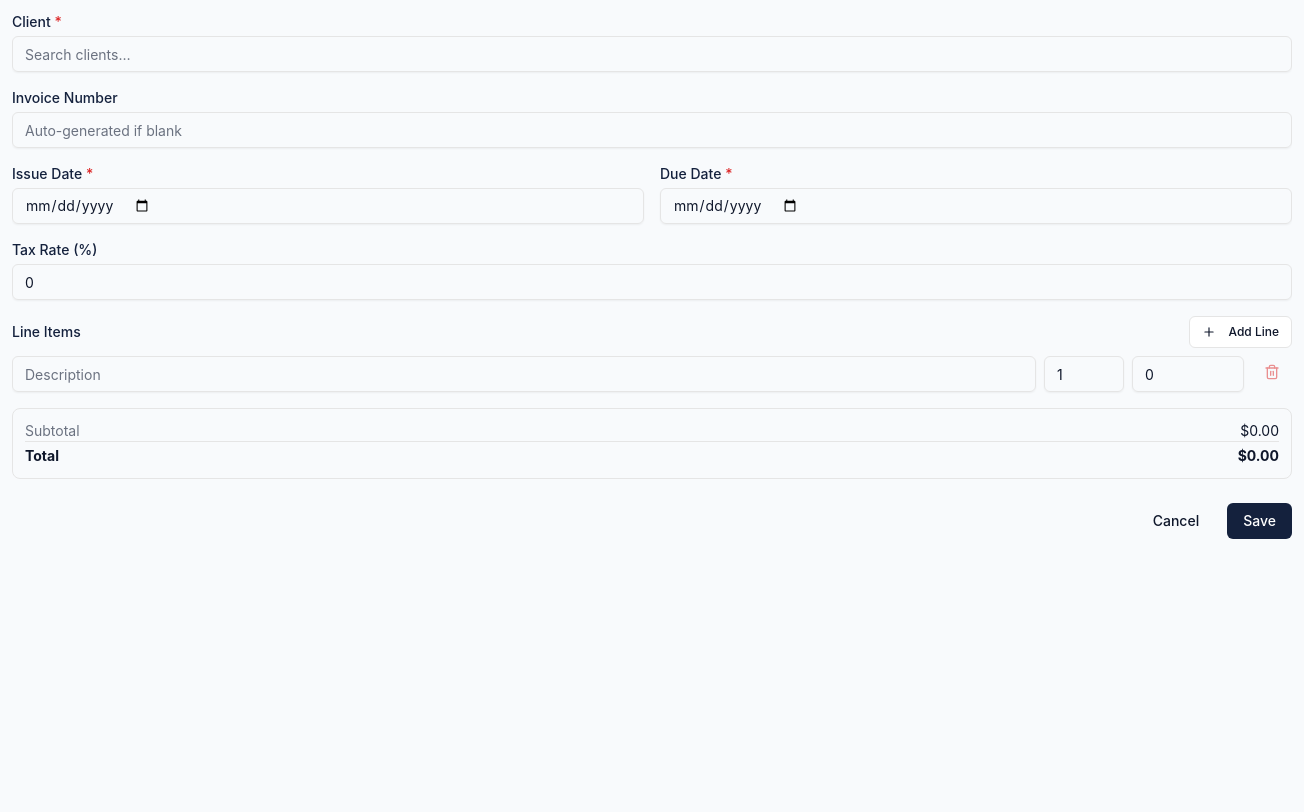
InvoiceForm › removes a line item when remove button is clicked (only if >1 line)
Click the button with test id "btn-add-line": coordinates (1241, 332) left=1190, top=316, right=1292, bottom=348
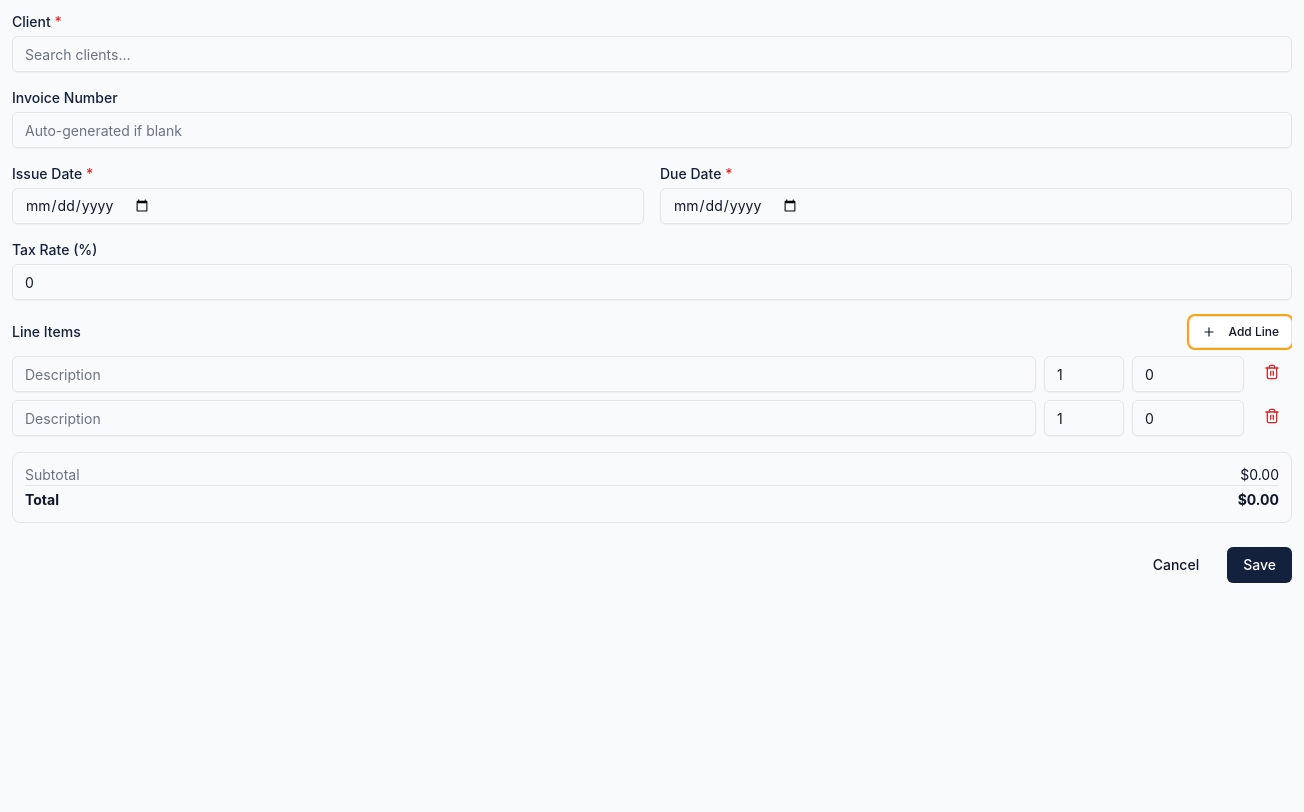
Check: the element with test id "line-item-1" is shown, box left=12, top=400, right=1292, bottom=436
Click the button with test id "btn-remove-line-1": coordinates (1272, 416) left=1252, top=400, right=1292, bottom=432
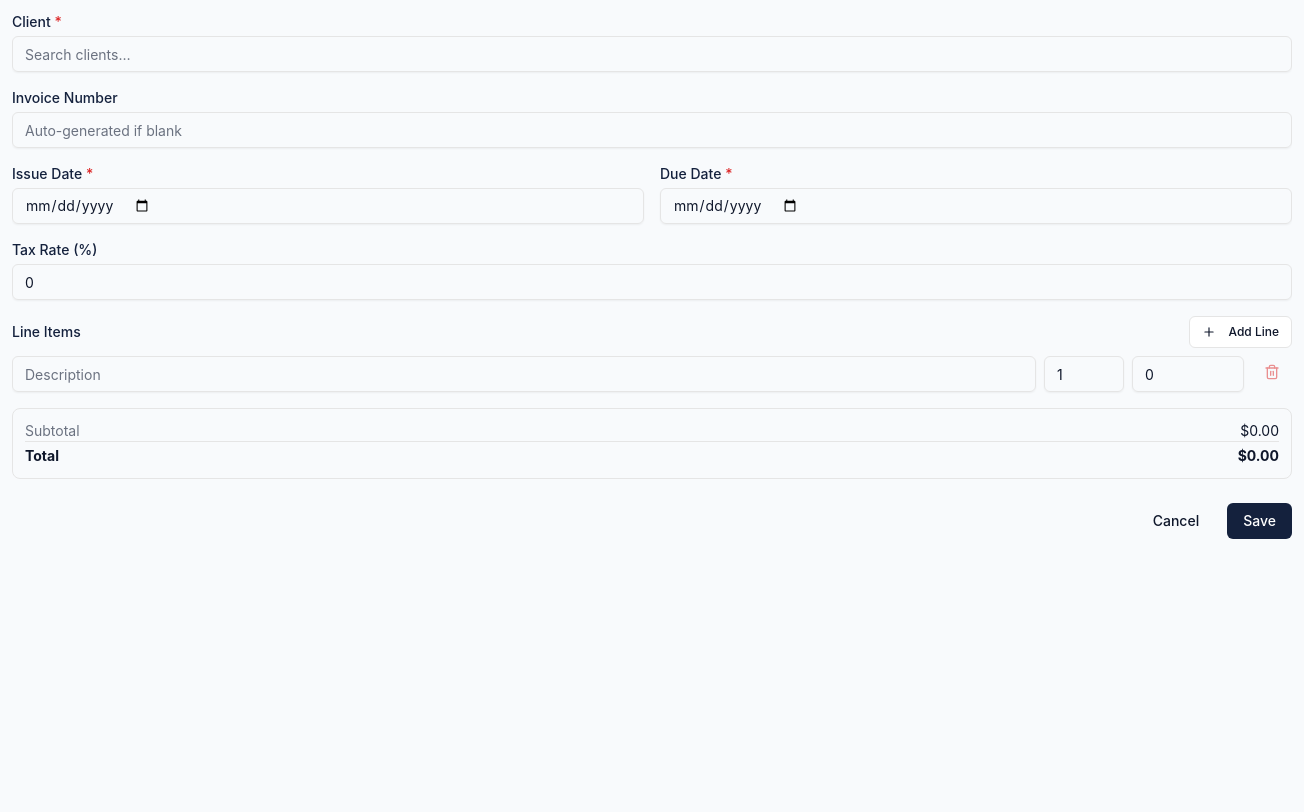
Check: the element with test id "line-item-1" is gone
